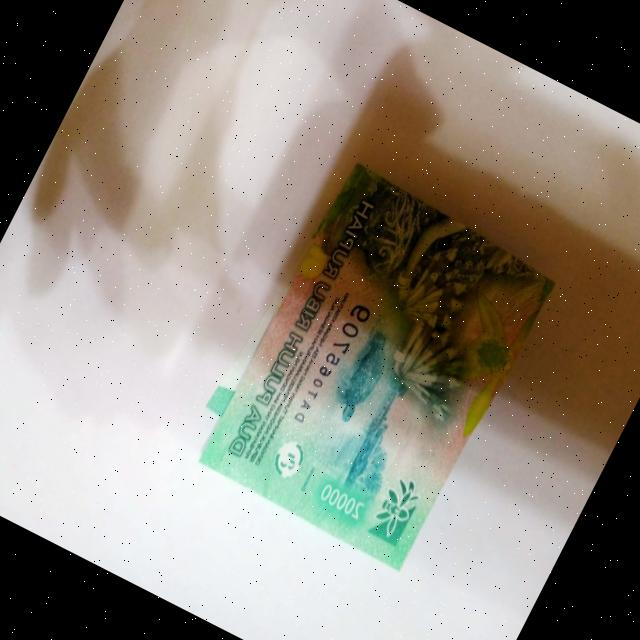20K: (158, 144, 572, 584)
